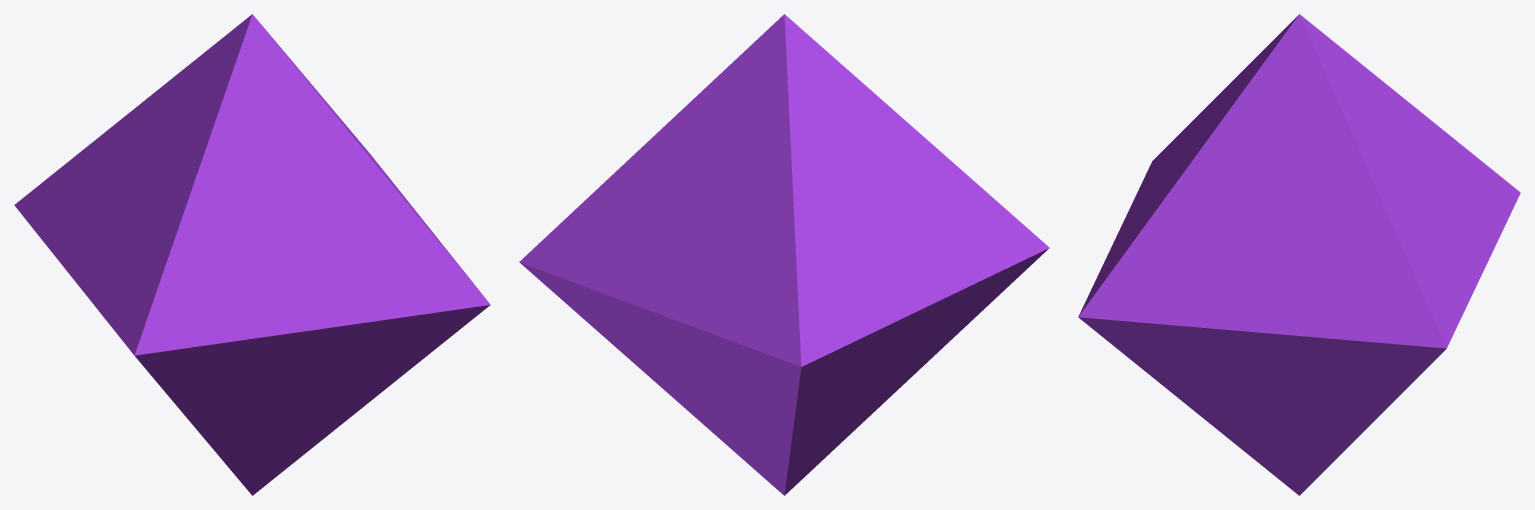
The model's file is Crystal.001_chunks.fbx.
3 views of the same model, side by side, from view 1: azimuth 30°, elevation 25°; view 2: azimuth 150°, elevation 25°; view 3: azimuth 270°, elevation 25° (orthographic).
Parts seen in each view (by area): view 1: Crystal.001_9, Crystal.001_11, Crystal.001_8, Crystal.001_0, Crystal.001_10, Crystal.001_22, Crystal.001_7, Crystal.001_21, Crystal.001_19; view 2: Crystal.001_10, Crystal.001_6, Crystal.001_11, Crystal.001_1, Crystal.001_14, Crystal.001_22, Crystal.001_13, Crystal.001_20, Crystal.001_0, Crystal.001_27, Crystal.001_15, Crystal.001_12 (+2 smaller); view 3: Crystal.001_5, Crystal.001_8, Crystal.001_6, Crystal.001_2, Crystal.001_18, Crystal.001_10, Crystal.001_9, Crystal.001_19, Crystal.001_14, Crystal.001_11, Crystal.001_12, Crystal.001_16 (+4 smaller).
Boxes of the visible parts, x1=… form: Crystal.001_9: x1=208, y1=60, x2=394, y2=354; Crystal.001_11: x1=117, y1=14, x2=268, y2=323; Crystal.001_8: x1=334, y1=182, x2=490, y2=387; Crystal.001_0: x1=170, y1=377, x2=372, y2=482; Crystal.001_10: x1=14, y1=76, x2=175, y2=281; Crystal.001_22: x1=82, y1=243, x2=198, y2=380; Crystal.001_7: x1=210, y1=342, x2=363, y2=386; Crystal.001_21: x1=156, y1=311, x2=214, y2=397; Crystal.001_19: x1=263, y1=33, x2=331, y2=110; Crystal.001_10: x1=741, y1=128, x2=927, y2=405; Crystal.001_6: x1=587, y1=29, x2=768, y2=308; Crystal.001_11: x1=767, y1=14, x2=1024, y2=242; Crystal.001_1: x1=669, y1=366, x2=877, y2=495; Crystal.001_14: x1=523, y1=233, x2=698, y2=345; Crystal.001_22: x1=919, y1=226, x2=1049, y2=315; Crystal.001_13: x1=650, y1=322, x2=752, y2=375; Crystal.001_20: x1=823, y1=281, x2=960, y2=392; Crystal.001_0: x1=810, y1=322, x2=969, y2=471; Crystal.001_27: x1=755, y1=49, x2=793, y2=185; Crystal.001_15: x1=648, y1=263, x2=744, y2=323; Crystal.001_12: x1=542, y1=282, x2=661, y2=365; Crystal.001_5: x1=1261, y1=156, x2=1447, y2=391; Crystal.001_8: x1=1078, y1=194, x2=1270, y2=394; Crystal.001_6: x1=1281, y1=34, x2=1482, y2=281; Crystal.001_2: x1=1174, y1=371, x2=1383, y2=456; Crystal.001_18: x1=1203, y1=134, x2=1283, y2=311; Crystal.001_10: x1=1371, y1=72, x2=1520, y2=225; Crystal.001_9: x1=1106, y1=48, x2=1271, y2=258; Crystal.001_19: x1=1230, y1=34, x2=1294, y2=137; Crystal.001_14: x1=1431, y1=245, x2=1493, y2=360; Crystal.001_11: x1=1153, y1=14, x2=1362, y2=175; Crystal.001_12: x1=1328, y1=355, x2=1434, y2=411; Crystal.001_16: x1=1190, y1=110, x2=1242, y2=214.
Size of the model in its own units: 852 by 1024 by 852.
